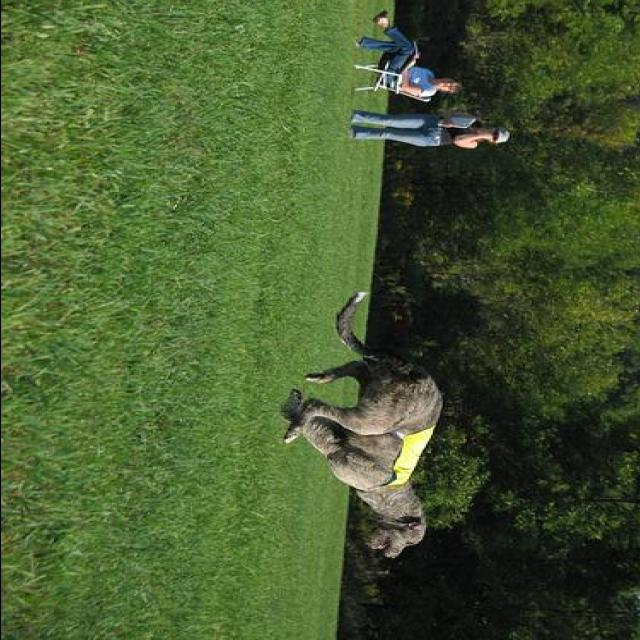irish_wolfhound: (276, 288, 444, 558)
